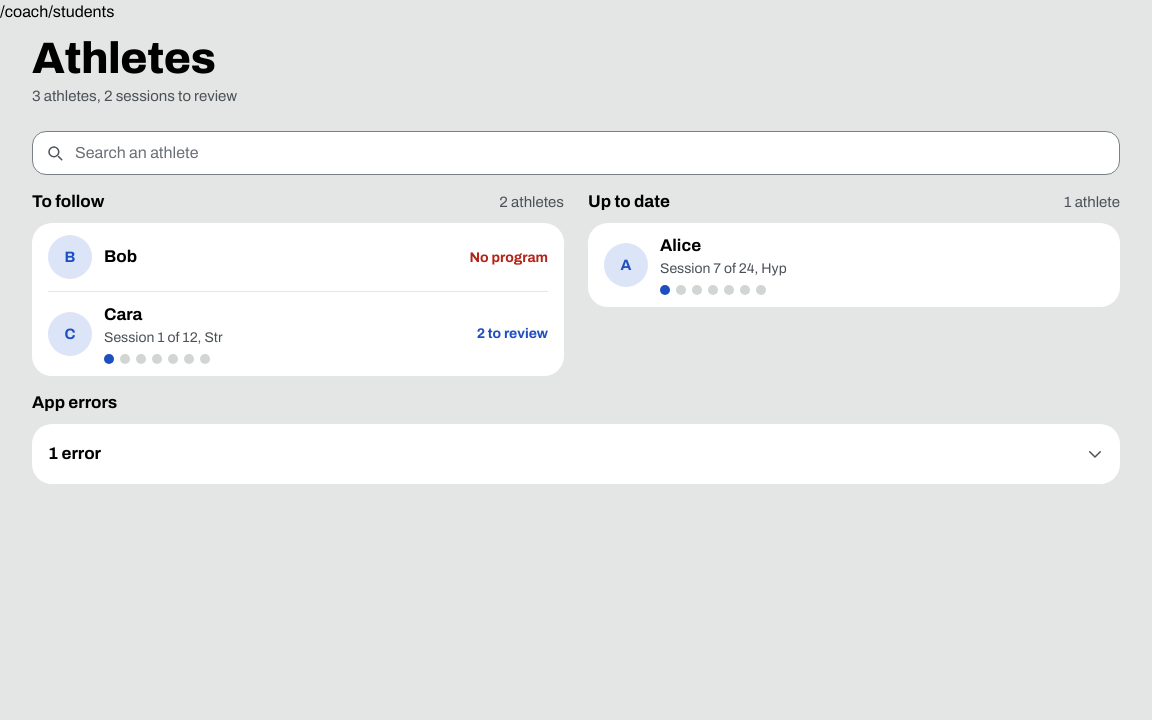
Test case: CoachHome › roster landing › shows the app-errors triage when there are errors
Expected: the text "boom" is not shown
Click the button "1 error".
click(75, 453)  # box [48, 424, 1104, 484]
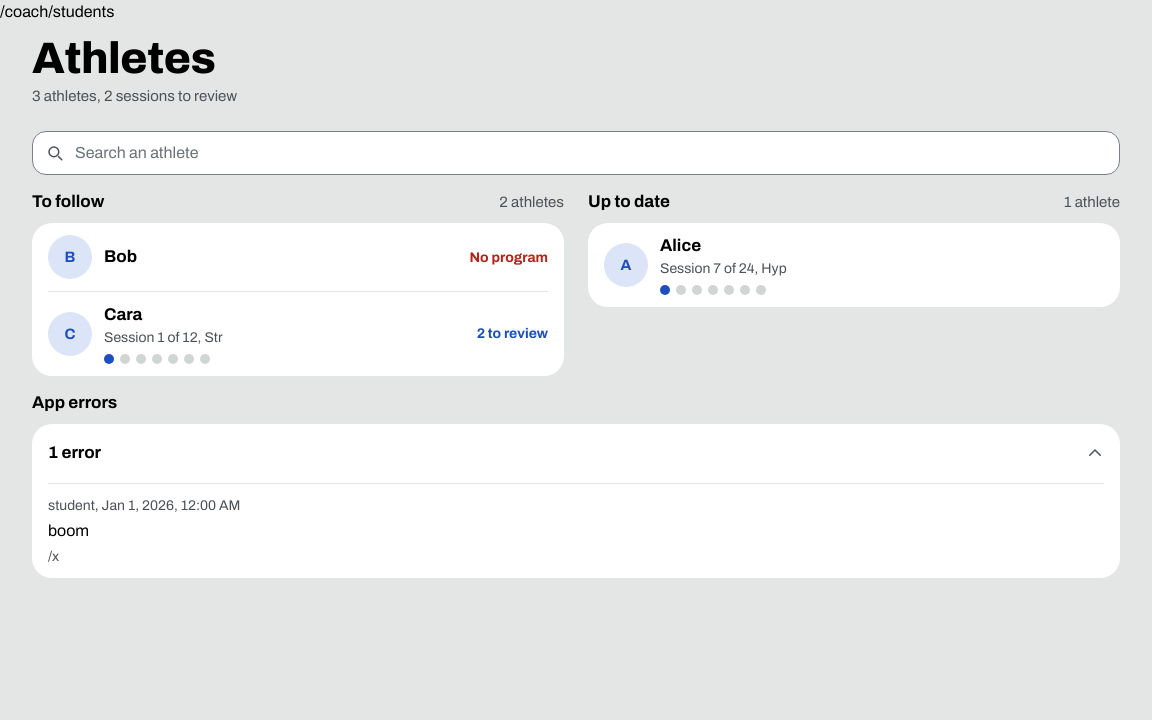
Now the button "1 error" is expanded, box [48, 424, 1104, 484]
Now the text "boom" is shown, box [48, 520, 89, 543]
Now the text "/x" is shown, box [48, 547, 59, 566]
